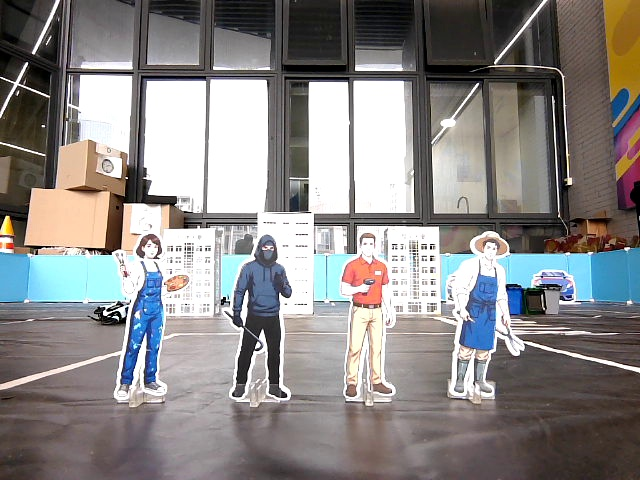community_person: (440, 223, 527, 414), (105, 228, 192, 412), (337, 225, 398, 411)
outsider: (219, 224, 302, 416)
